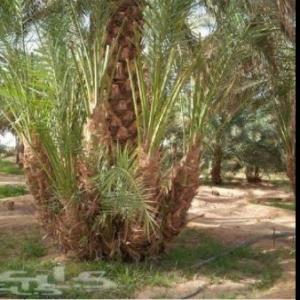palm tree: (0, 0, 293, 262)
